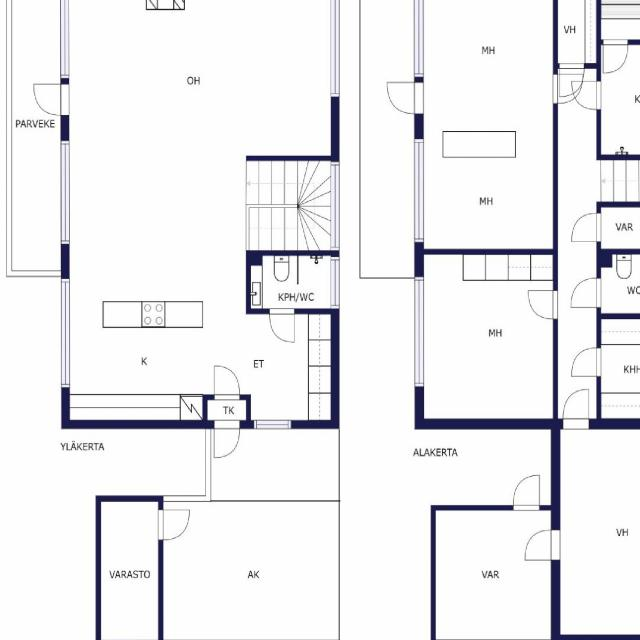door: (387, 82, 423, 114), (34, 84, 69, 115), (525, 530, 560, 560), (563, 389, 589, 428), (214, 419, 240, 458), (158, 510, 190, 540), (514, 475, 540, 510), (528, 290, 558, 319), (572, 278, 602, 307), (603, 39, 628, 73), (553, 75, 583, 103), (270, 308, 294, 342), (215, 366, 239, 400), (572, 81, 601, 109), (572, 348, 601, 376), (572, 213, 601, 241), (560, 63, 584, 96)
